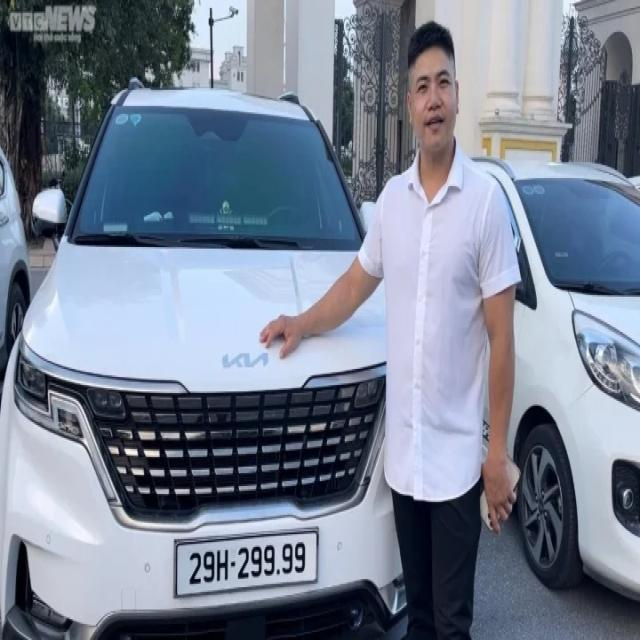car: (15, 68, 404, 640), (487, 142, 639, 619)
plate: (165, 531, 321, 597)
